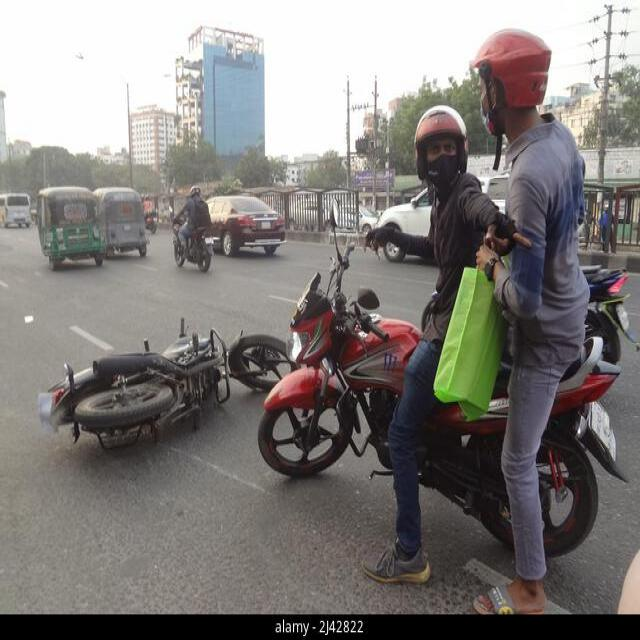With Helmet: (258, 5, 602, 547)
